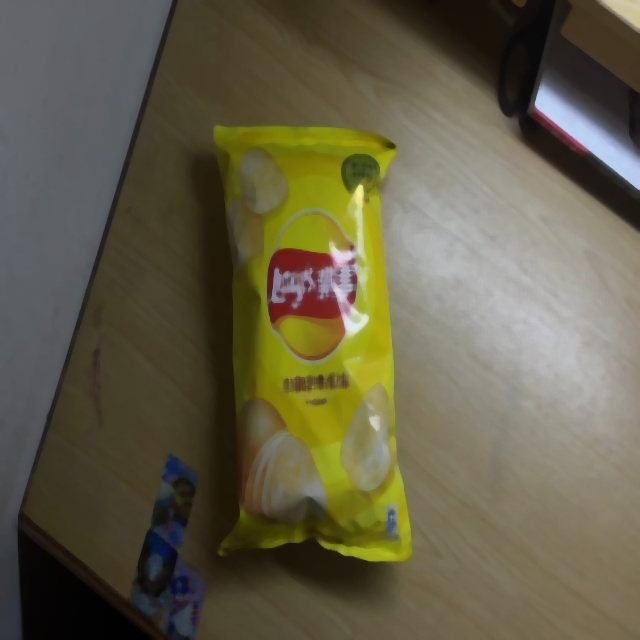Lay-s-original: (211, 119, 414, 561)
